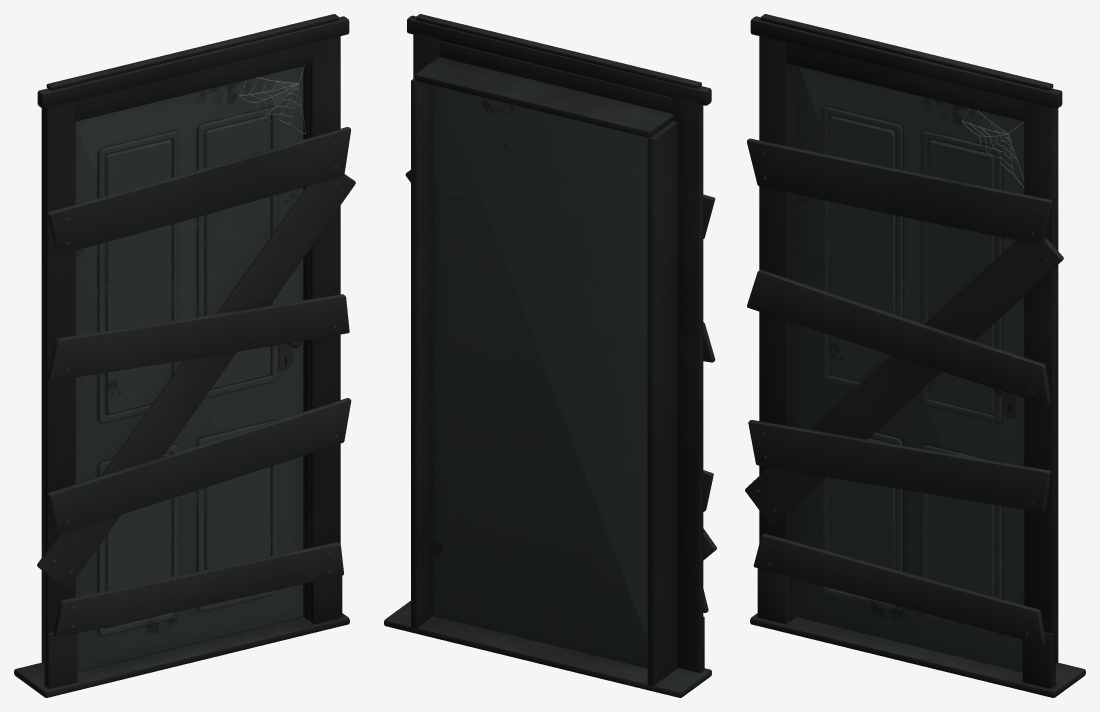
File: barricaded-door.glb
The picture shows the model from 3 angles, left to right: view 1: azimuth 30°, elevation 25°; view 2: azimuth 150°, elevation 25°; view 3: azimuth 330°, elevation 25°; orthographic projection. The views are drawn at different scales.
Parts seen in each view (by area): view 1: barricaded-door_body, barricaded-door_web; view 2: barricaded-door_body; view 3: barricaded-door_body, barricaded-door_web.
Boxes of the visible parts, box(x1,y1,x2,y2) form: barricaded-door_body: box(14, 14, 355, 697); barricaded-door_web: box(239, 66, 305, 133); barricaded-door_body: box(384, 14, 716, 697); barricaded-door_body: box(745, 14, 1085, 697); barricaded-door_web: box(962, 108, 1024, 187).
Size of the model in its own units: 1.18 by 2.17 by 0.2351.
Materials: 3 (1 with a texture image).
